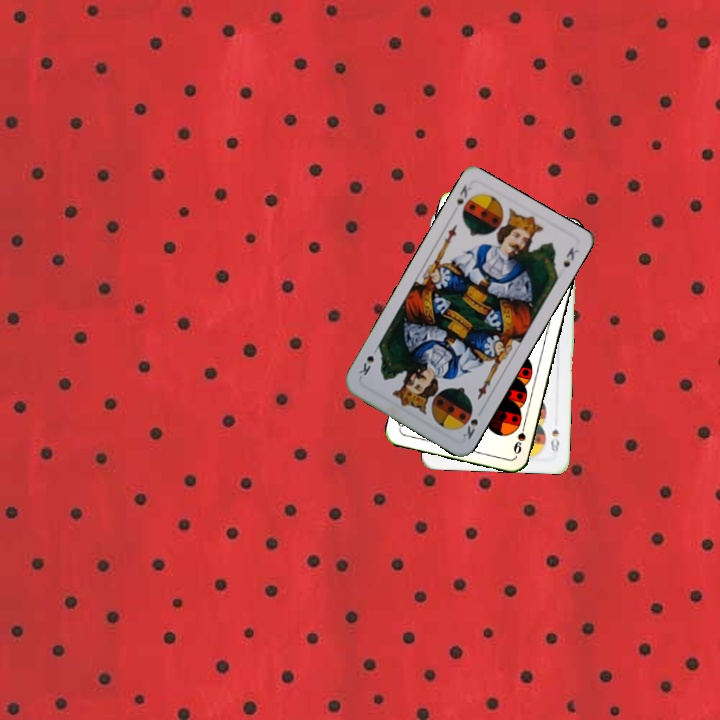S8: (547, 426, 562, 454)
S9: (509, 417, 529, 457)
SK: (452, 180, 476, 218), (458, 415, 481, 442)
